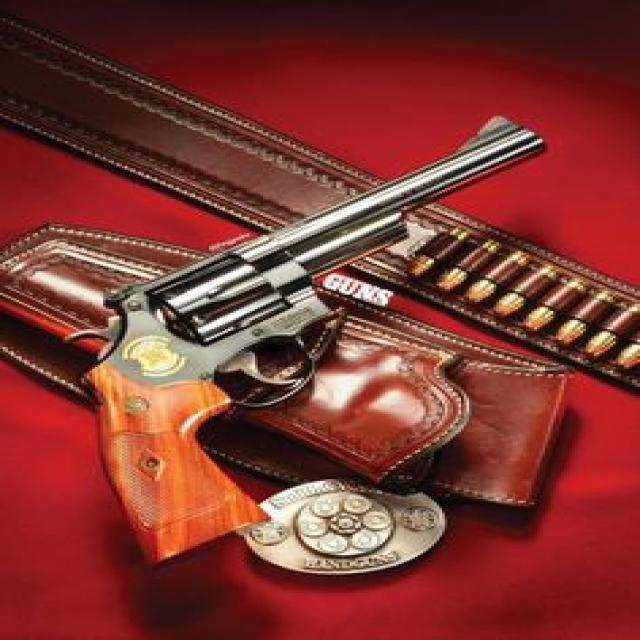revolver: (0, 90, 632, 566)
